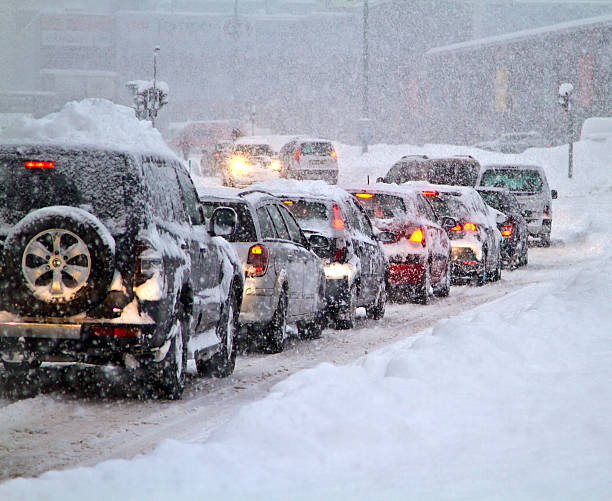car: (1, 147, 232, 406), (205, 186, 324, 342), (261, 183, 387, 323), (353, 186, 450, 308), (425, 182, 497, 285), (477, 165, 551, 249), (278, 140, 337, 183)
